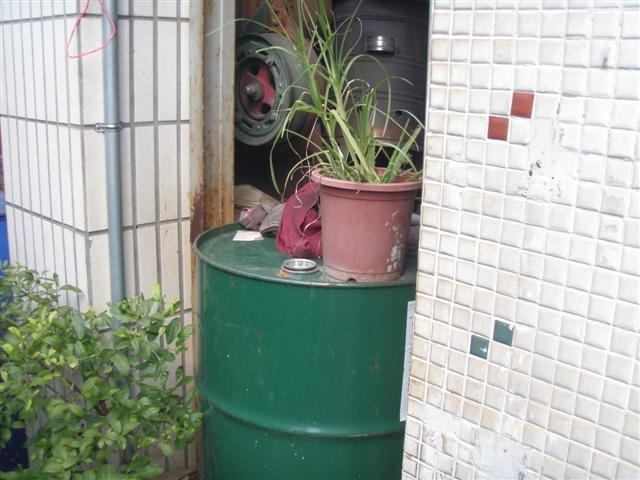bucket: (194, 220, 418, 480)
